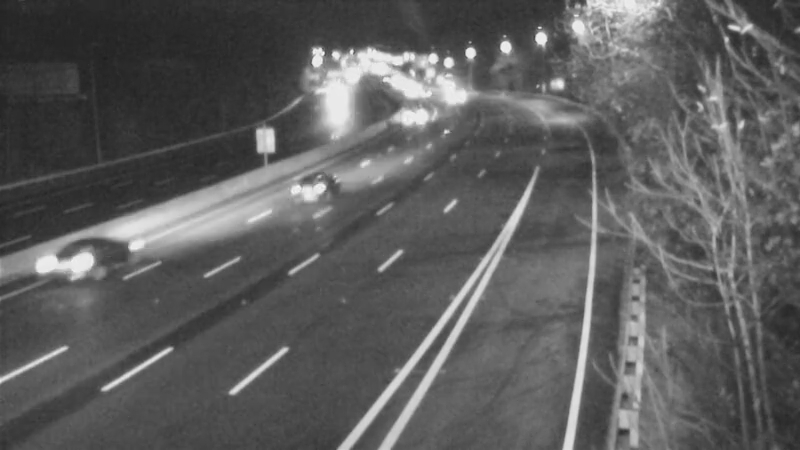vehicle: (271, 150, 351, 230), (30, 219, 110, 299), (390, 88, 440, 138), (307, 75, 357, 125)
